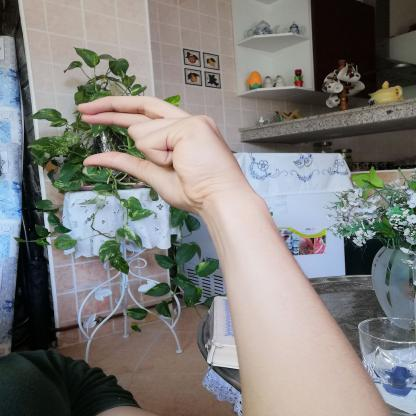DHELL: (61, 87, 254, 216)
